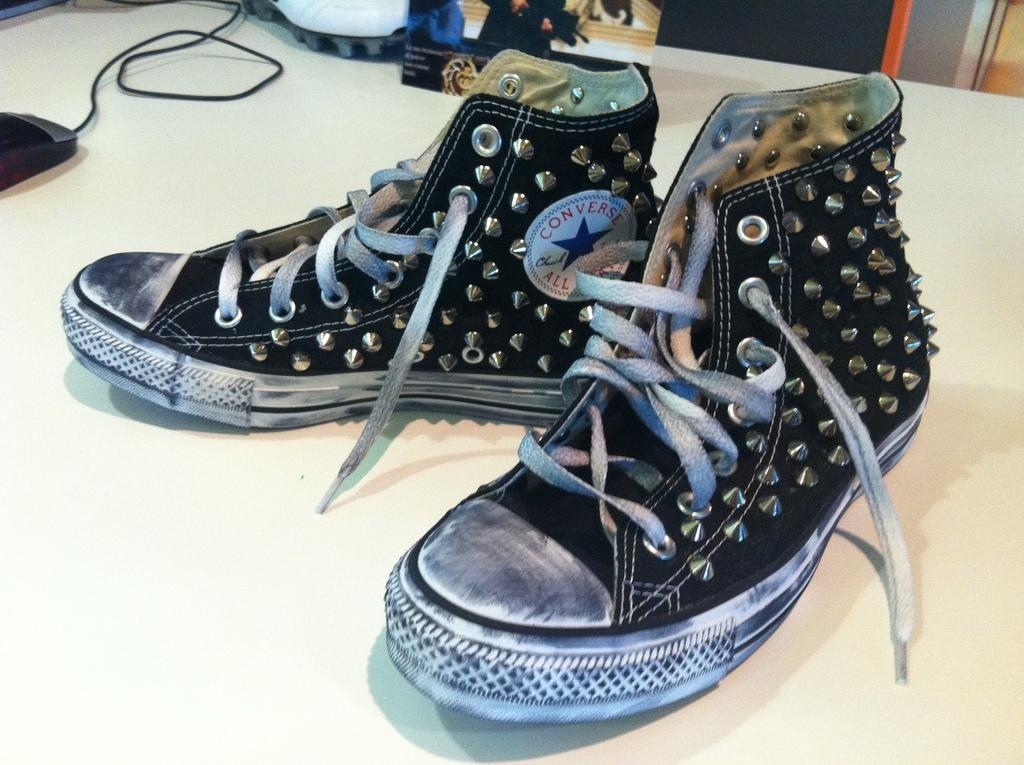Computer-mouse: (1, 104, 83, 193)
